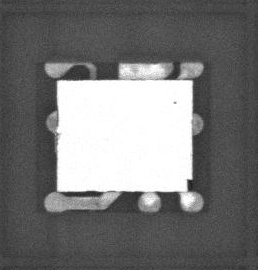DIE_INK: (172, 99, 179, 106)
